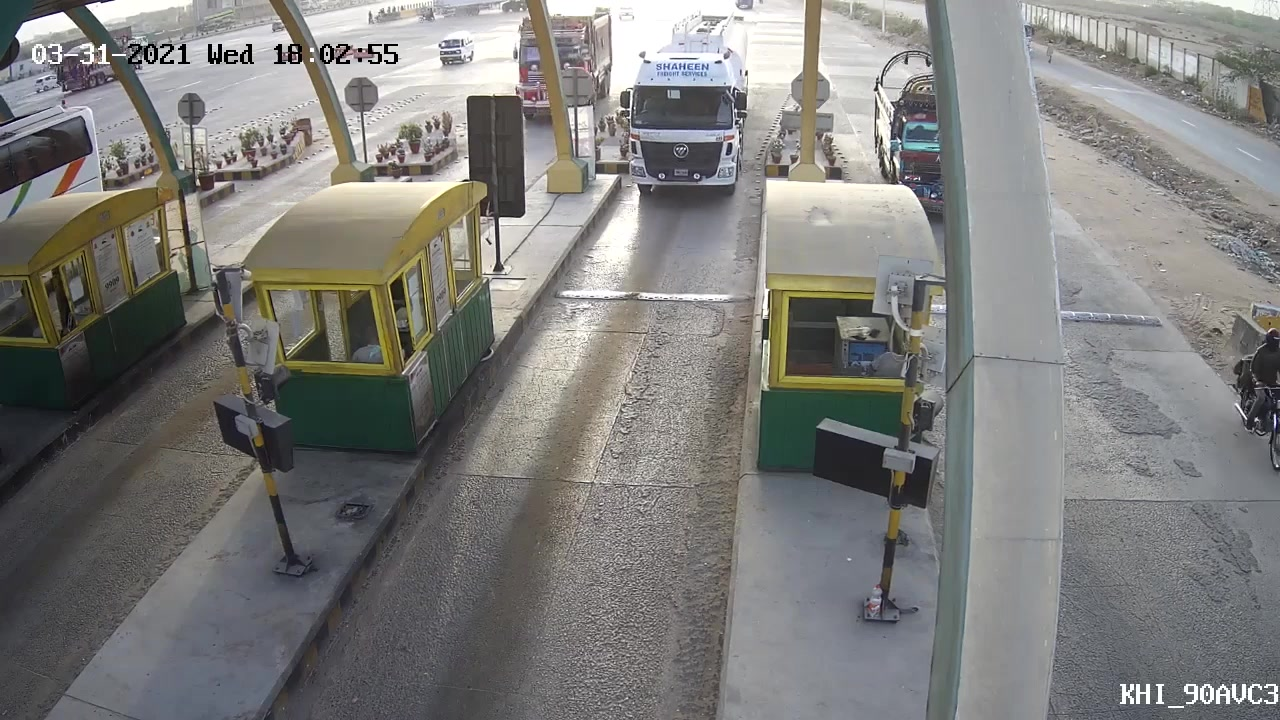F6: (602, 3, 764, 205)
